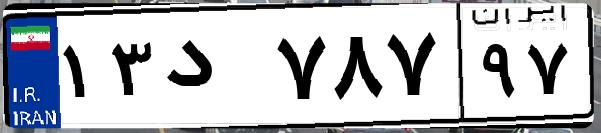1: (57, 26, 110, 100)
3: (110, 28, 158, 98)
7: (270, 28, 330, 110), (385, 28, 445, 110), (525, 38, 570, 115)
8: (330, 28, 385, 110)
9: (475, 38, 525, 113)
د: (158, 20, 270, 120)
